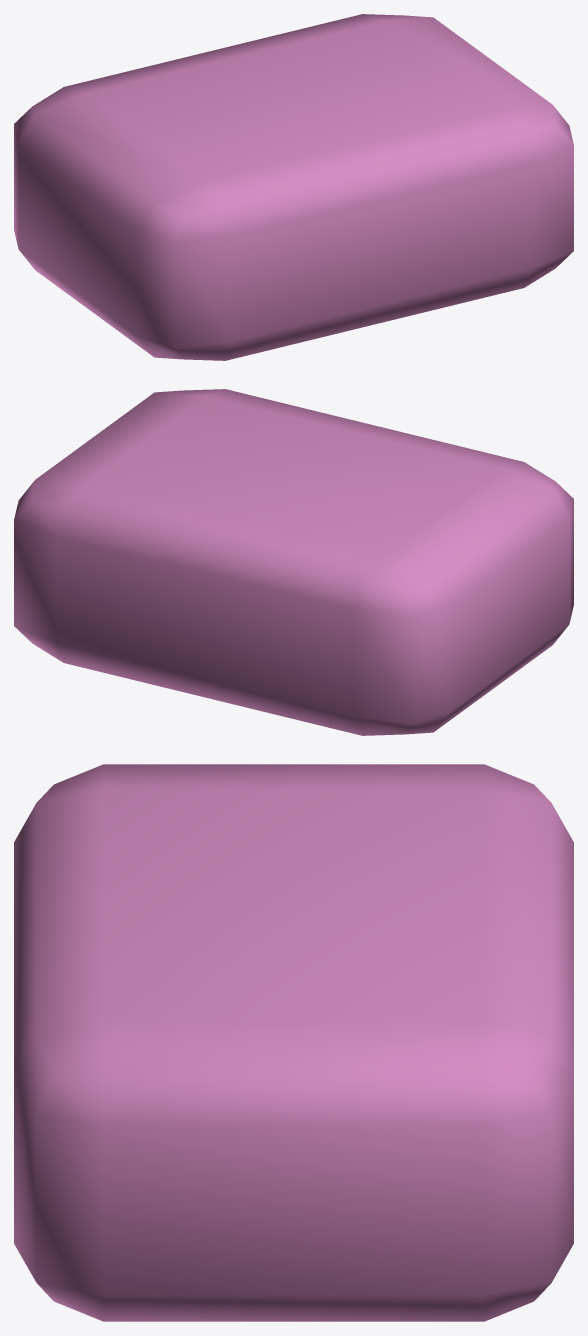
File: soap.FBX
3 views of the same model, one above another, from view 1: azimuth 30°, elevation 25°; view 2: azimuth 150°, elevation 25°; view 3: azimuth 270°, elevation 25° (orthographic). The views are drawn at different scales.
Parts seen in each view (by area): view 1: soap; view 2: soap; view 3: soap.
Boxes of the visible parts, x1,y1,x2,y2 form: soap: (14,14,573,360); soap: (14,389,573,735); soap: (14,764,573,1321).
Size of the model in its own units: 4.25 by 3 by 1.62.
